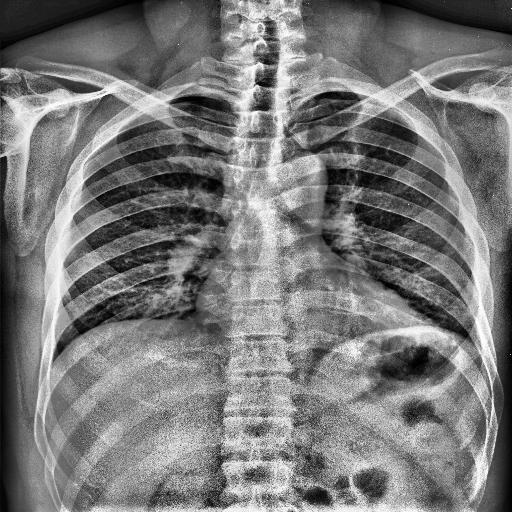0- Aortic enlargement: (265, 146, 328, 202), (267, 150, 326, 206), (280, 148, 328, 198)
3- Cardiomegaly: (194, 271, 438, 344), (192, 286, 444, 338), (194, 288, 435, 335)
